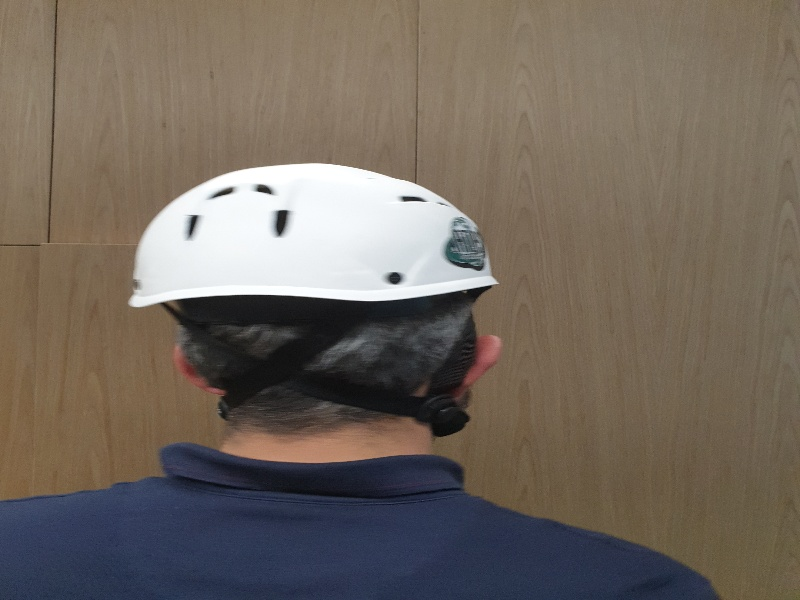Baret: (128, 163, 505, 297)
